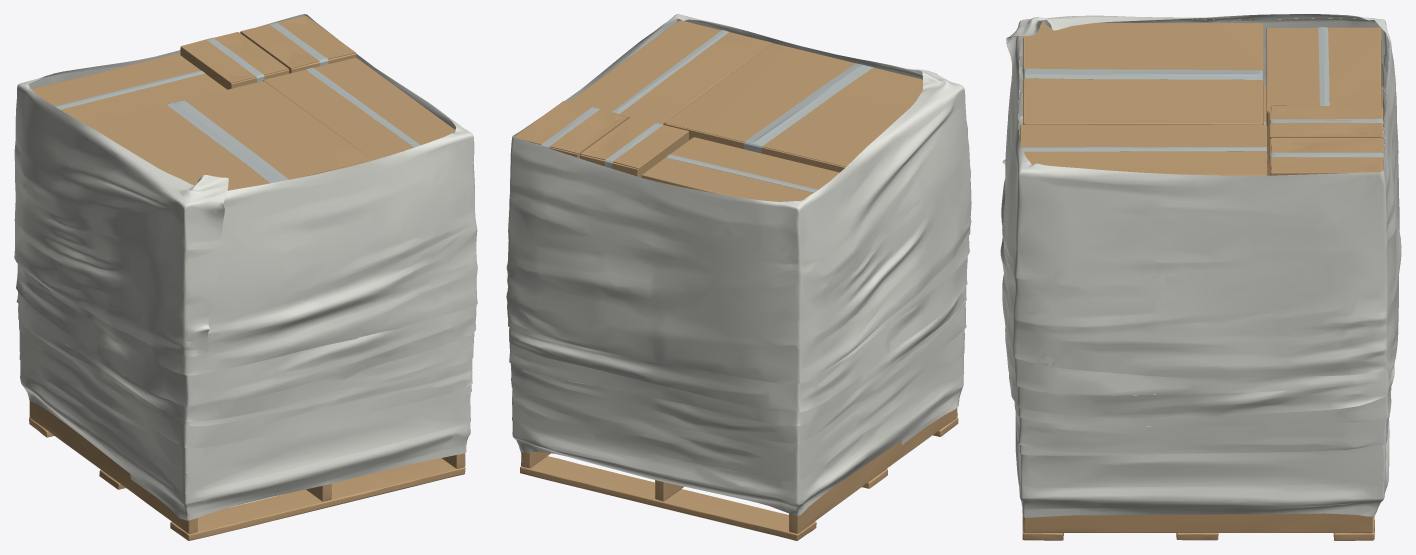
Rendered from pallet_assembly_transparent_a05.glb.
The picture shows the model from 3 angles, left to right: view 1: azimuth 30°, elevation 25°; view 2: azimuth 150°, elevation 25°; view 3: azimuth 270°, elevation 25°; orthographic projection. The views are drawn at different scales.
Bounding box in the file's own units: 1.01 × 1.09 × 1.02.
